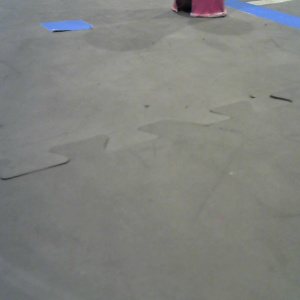right: (171, 1, 227, 17)
